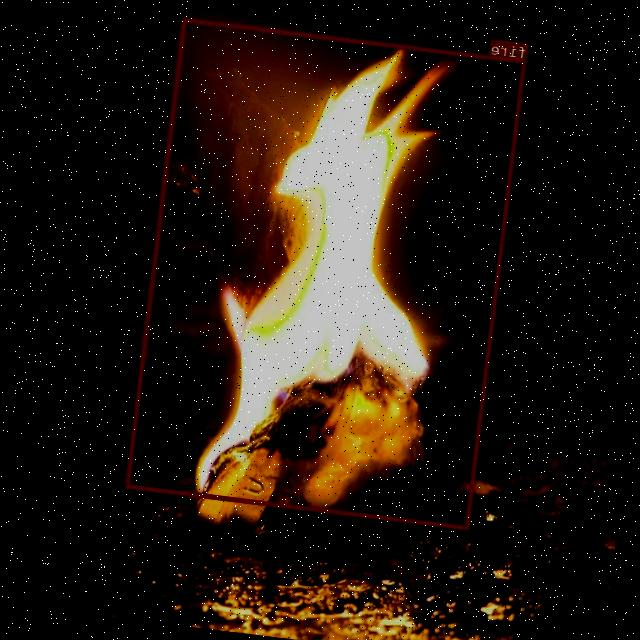fire: (126, 17, 526, 530)
